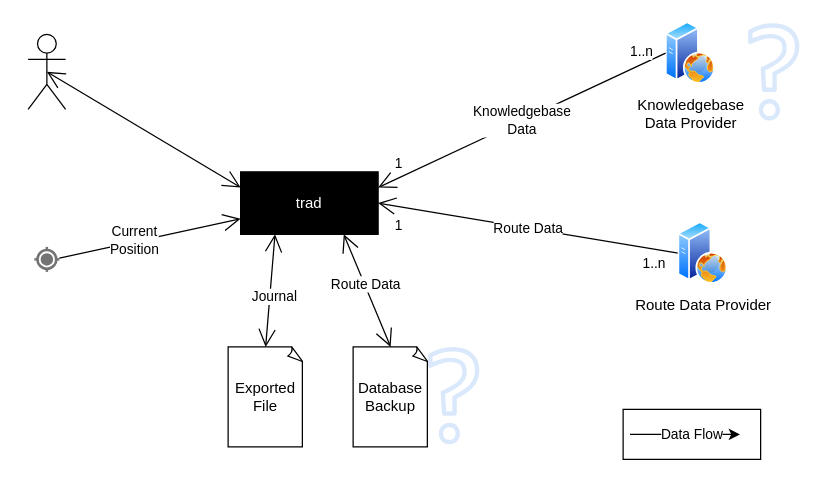
Image size: 821x481. Some labels were removed from this diagram. The centre of each missing label's shape, as x and y in pixels:
Climber: point (46, 71)
GNSS: point (46, 258)
